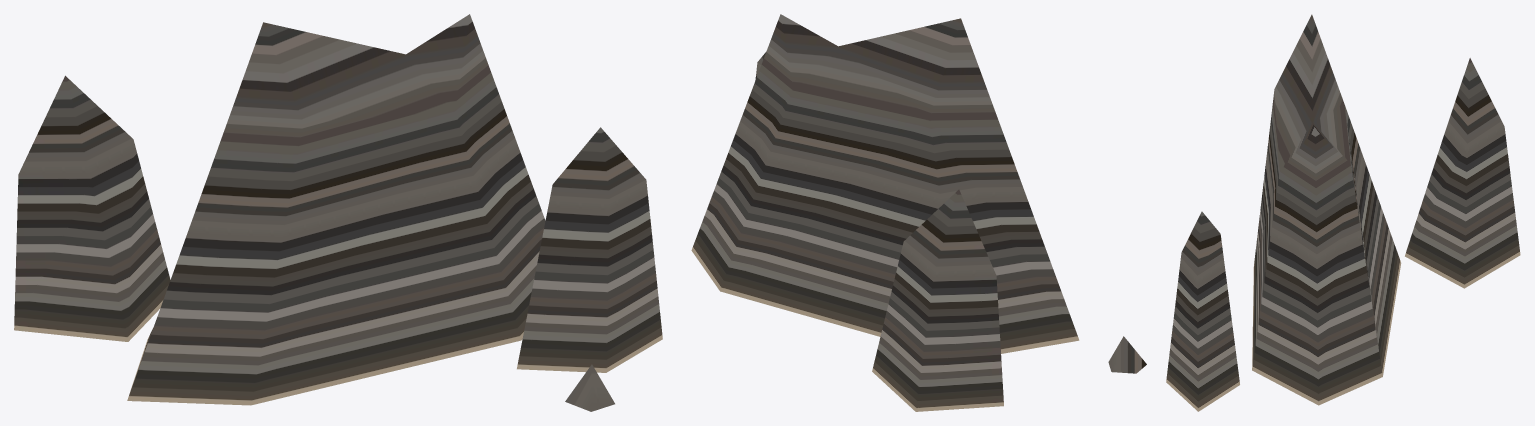
The model's file is rock_vformation3_hdtex.glb.
The picture shows the model from 3 angles, left to right: view 1: azimuth 30°, elevation 25°; view 2: azimuth 150°, elevation 25°; view 3: azimuth 270°, elevation 25°; orthographic projection. The views are drawn at different scales.
Visible parts, largest first — view 1: Rock_VFormation3; view 2: Rock_VFormation3; view 3: Rock_VFormation3.
Boxes of the visible parts, x1,y1,x2,y2 form: Rock_VFormation3: [14, 14, 662, 411]; Rock_VFormation3: [691, 14, 1079, 411]; Rock_VFormation3: [1108, 14, 1520, 411].
Bounding box in the file's own units: 25.03 × 17.25 × 23.71.
Materials: 1 (1 with a texture image).
